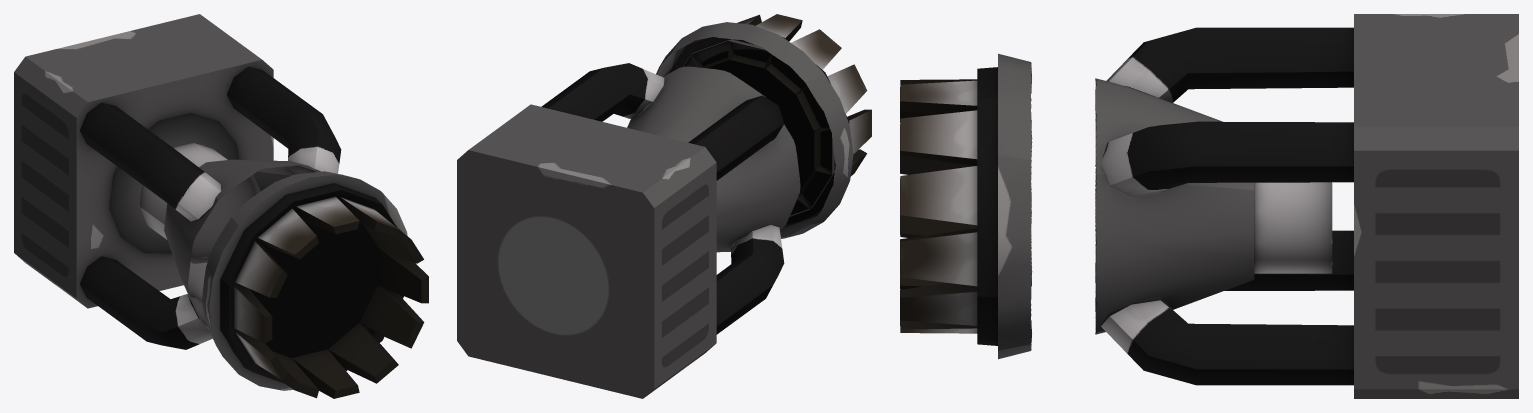
File: obj_interactive_thruster_01_off.fbx
The picture shows the model from 3 angles, left to right: view 1: azimuth 30°, elevation 25°; view 2: azimuth 150°, elevation 25°; view 3: azimuth 270°, elevation 25°; orthographic projection. The views are drawn at different scales.
Visible parts, largest first — view 1: obj_interactive_thruster_01_off; view 2: obj_interactive_thruster_01_off; view 3: obj_interactive_thruster_01_off.
Part boxes in pixels (box(x1,y1,x2,y2)): obj_interactive_thruster_01_off: box(14, 14, 428, 398); obj_interactive_thruster_01_off: box(457, 14, 871, 398); obj_interactive_thruster_01_off: box(900, 14, 1518, 398).
Size of the model in its own units: 2.04 by 2.04 by 4.12.
